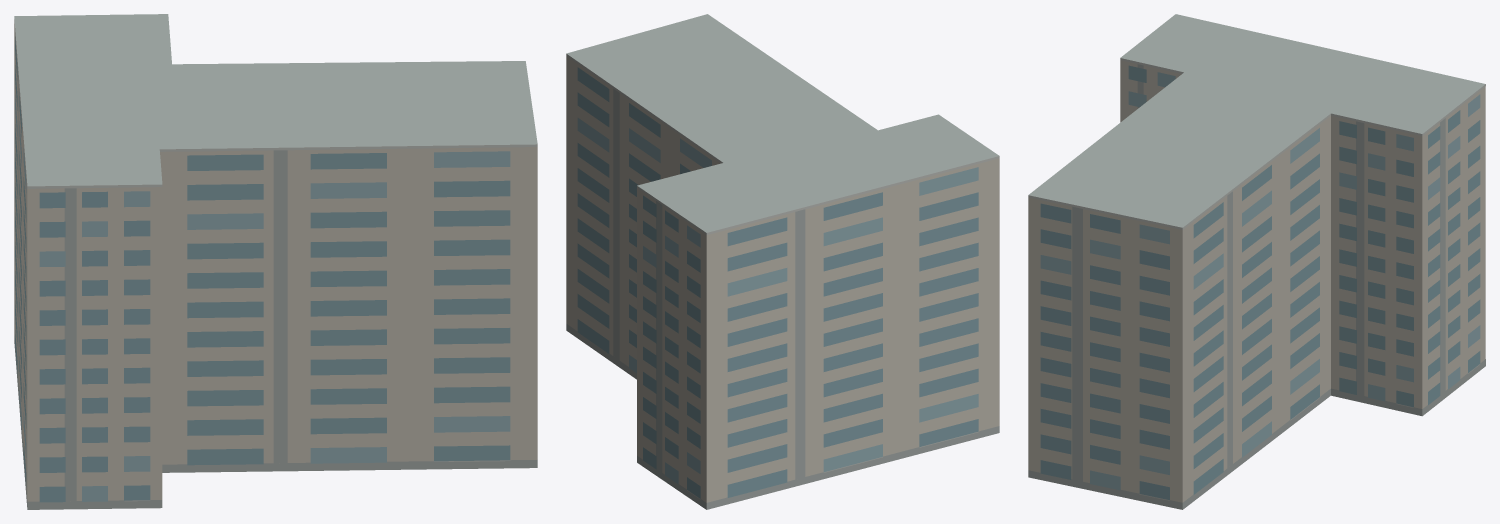
File: residential-83e0bab1-b4b5-410f-9927-a53a7555594d.glb
3 renders of one model, left to right at view 1: azimuth 30°, elevation 25°; view 2: azimuth 150°, elevation 25°; view 3: azimuth 270°, elevation 25°, orthographic. The views are drawn at different scales.
Parts seen in each view (by area): view 1: residential-83e0bab1-b4b5-410f-9927-a53a7555594d.tmp; view 2: residential-83e0bab1-b4b5-410f-9927-a53a7555594d.tmp; view 3: residential-83e0bab1-b4b5-410f-9927-a53a7555594d.tmp.
Boxes of the visible parts, x1,y1,x2,y2 form: residential-83e0bab1-b4b5-410f-9927-a53a7555594d.tmp: (14, 14, 537, 509); residential-83e0bab1-b4b5-410f-9927-a53a7555594d.tmp: (566, 14, 999, 509); residential-83e0bab1-b4b5-410f-9927-a53a7555594d.tmp: (1028, 14, 1485, 509).
Bounding box in the file's own units: 50.38 × 31 × 45.57.
